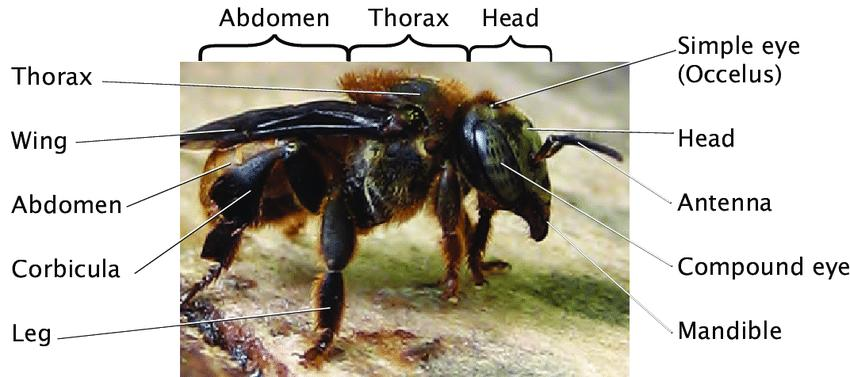Xylocopa: (190, 65, 621, 371)
